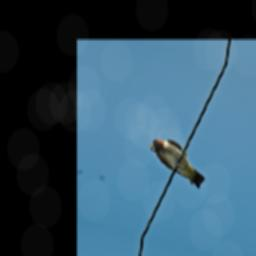Swallow: (140, 134, 214, 190)
